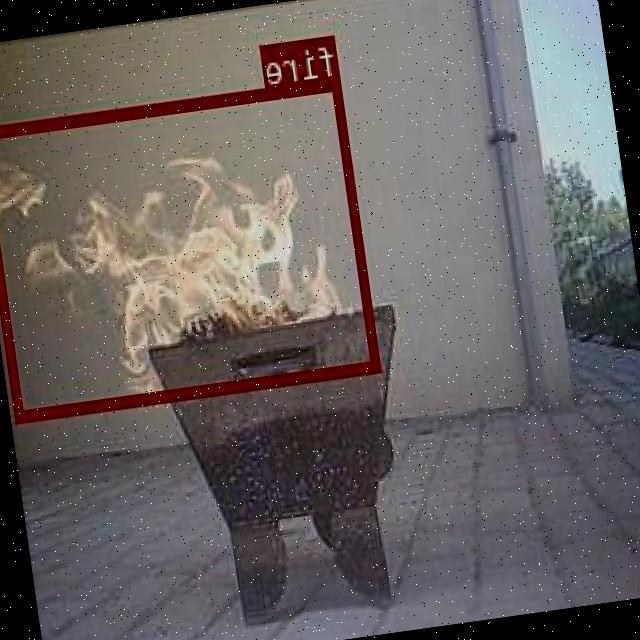fire: (0, 76, 382, 420)
